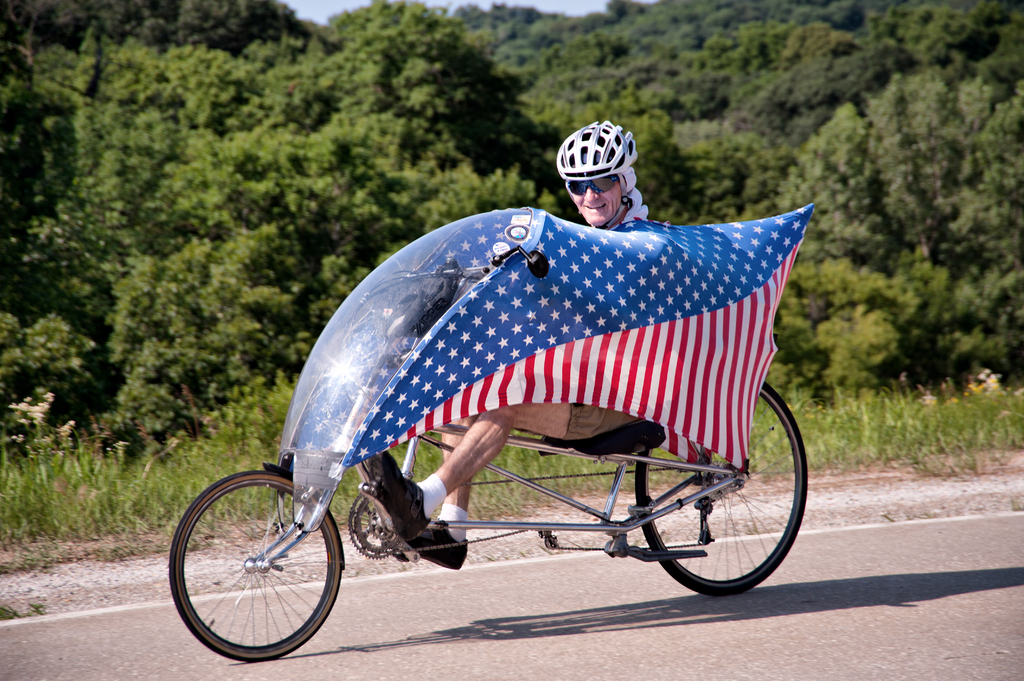Bike_toward: (161, 267, 850, 631)
